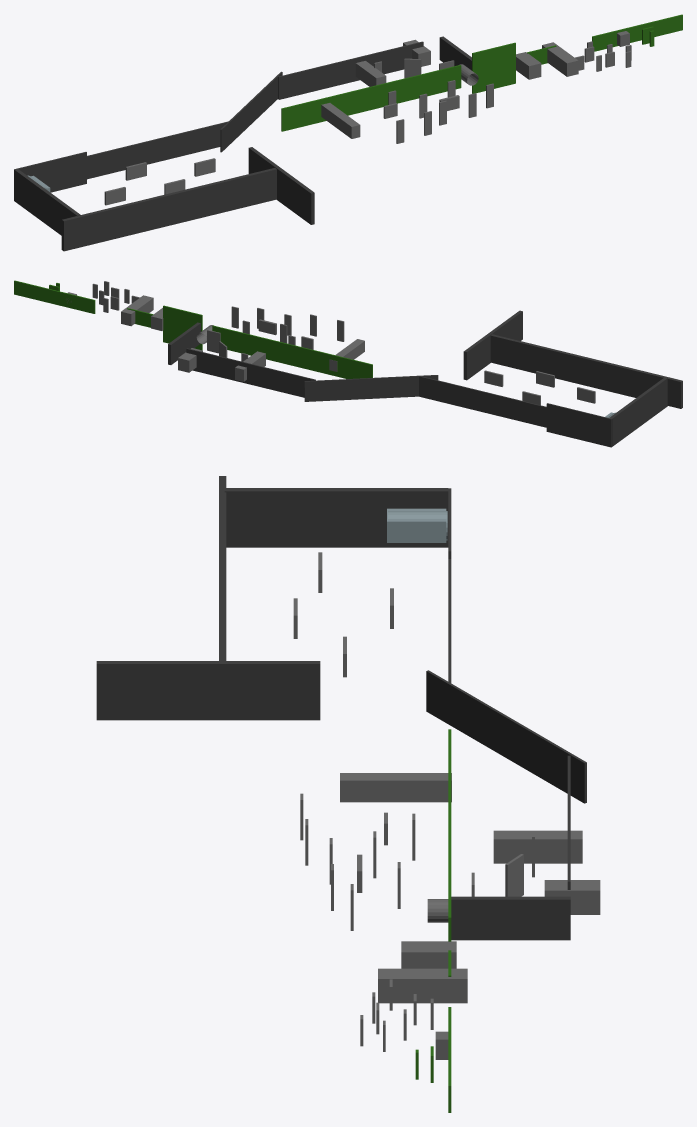
Rendered from stage4.obj.
The picture shows the model from 3 angles, top to bottom: view 1: azimuth 30°, elevation 25°; view 2: azimuth 150°, elevation 25°; view 3: azimuth 270°, elevation 25°; orthographic projection. The views are drawn at different scales.
Parts seen in each view (by area): view 1: obj2, obj1; view 2: obj2, obj1; view 3: obj2, obj1.
Part boxes in pixels (x1,y1,x2,y2): obj2: (14, 26, 654, 251); obj1: (31, 14, 682, 205); obj2: (49, 281, 682, 447); obj1: (14, 280, 613, 417); obj2: (96, 476, 586, 1082); obj1: (293, 508, 600, 1112).
Size of the model in its own units: 9460 by 534 by 3376.
